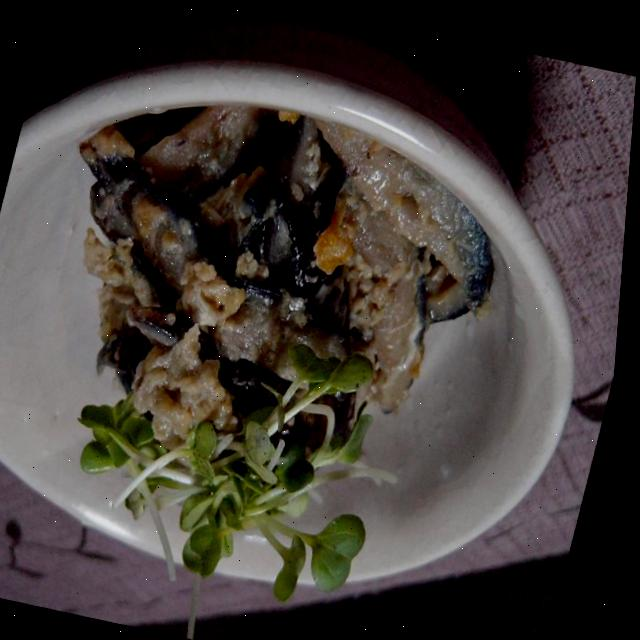鸡蛋料理: (0, 11, 555, 603)
